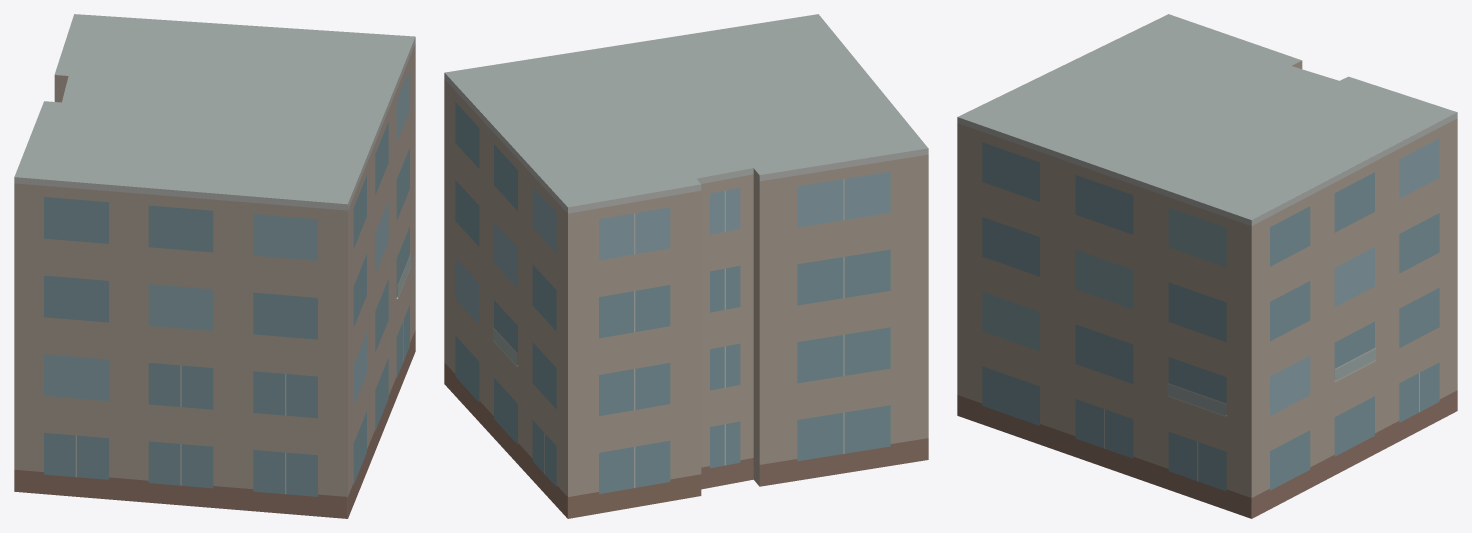
The model's file is survey-upis-32705501.glb.
The picture shows the model from 3 angles, left to right: view 1: azimuth 30°, elevation 25°; view 2: azimuth 150°, elevation 25°; view 3: azimuth 270°, elevation 25°; orthographic projection. The views are drawn at different scales.
Parts seen in each view (by area): view 1: survey-upis-32705501.tmp; view 2: survey-upis-32705501.tmp; view 3: survey-upis-32705501.tmp.
Boxes of the visible parts, box(x1,y1,x2,y2) form: survey-upis-32705501.tmp: box(14, 14, 415, 518); survey-upis-32705501.tmp: box(444, 14, 928, 518); survey-upis-32705501.tmp: box(957, 14, 1457, 518).
Size of the model in its own units: 18.07 by 12.2 by 18.52.
